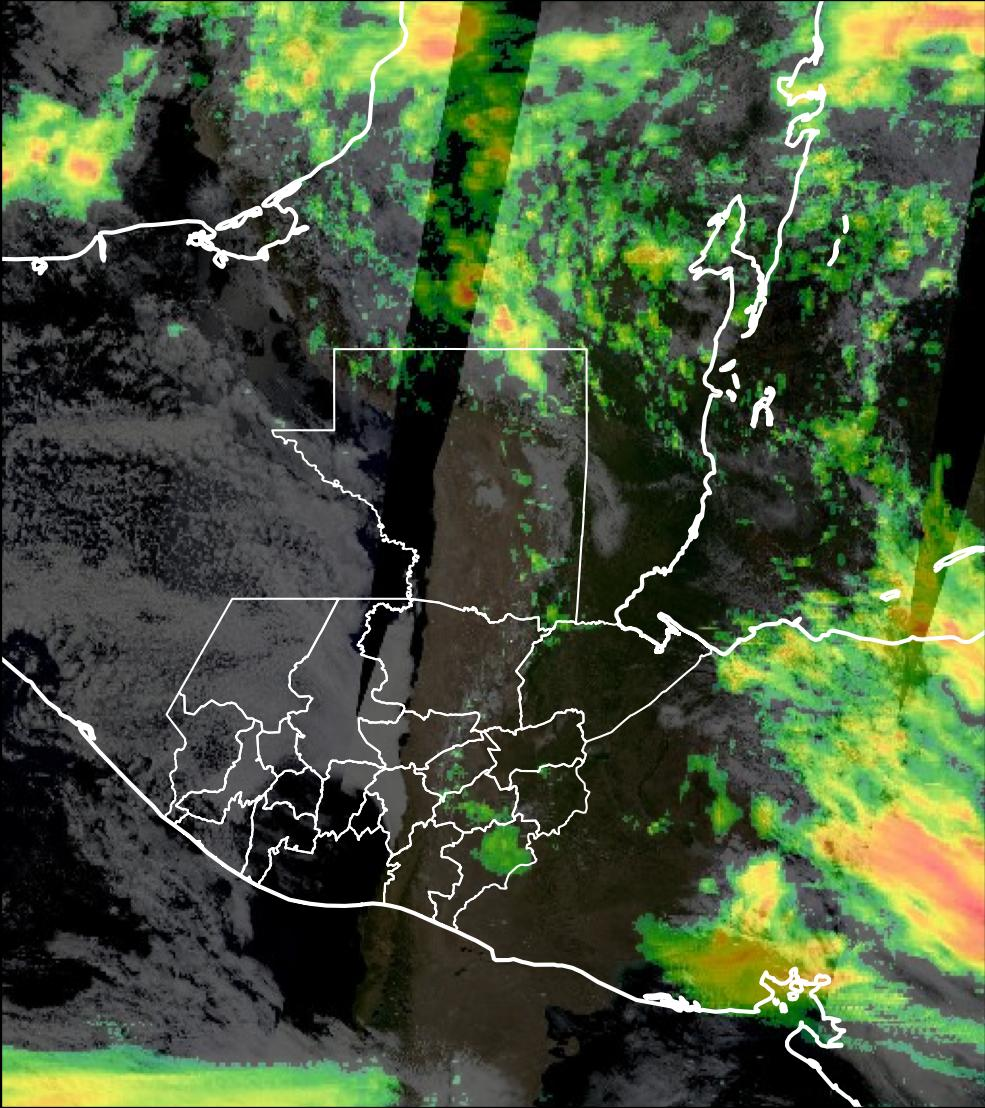precipitacion: (824, 801, 985, 979), (849, 1, 985, 75), (408, 1, 483, 68)
